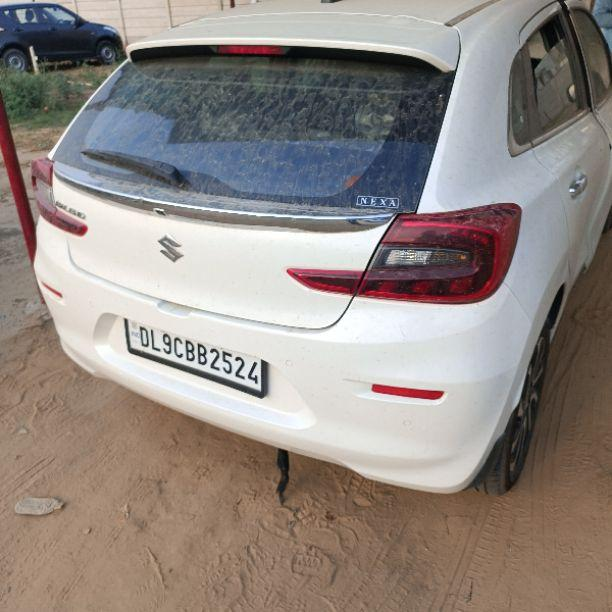license_plate: (122, 317, 268, 398)
